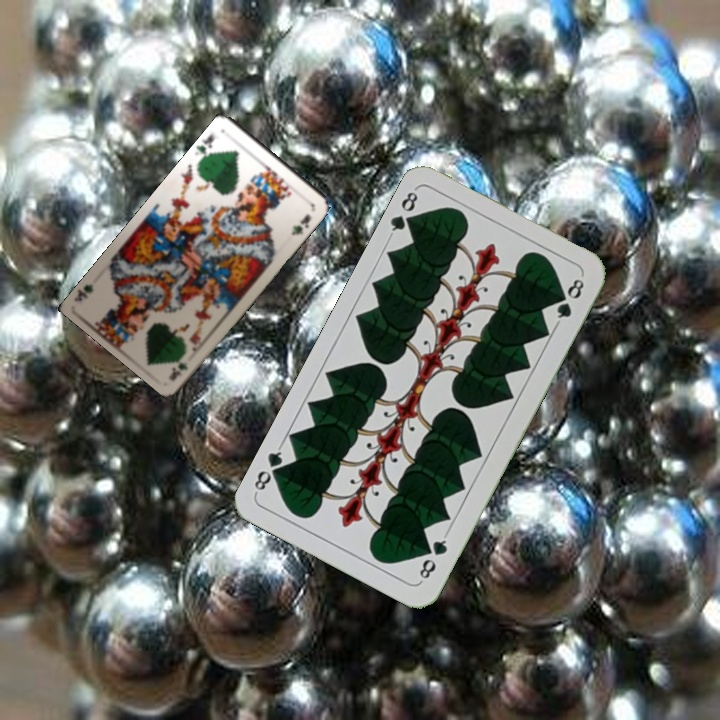G8: (385, 184, 422, 240), (415, 530, 450, 584)
GK: (191, 129, 217, 162), (165, 358, 190, 383)
